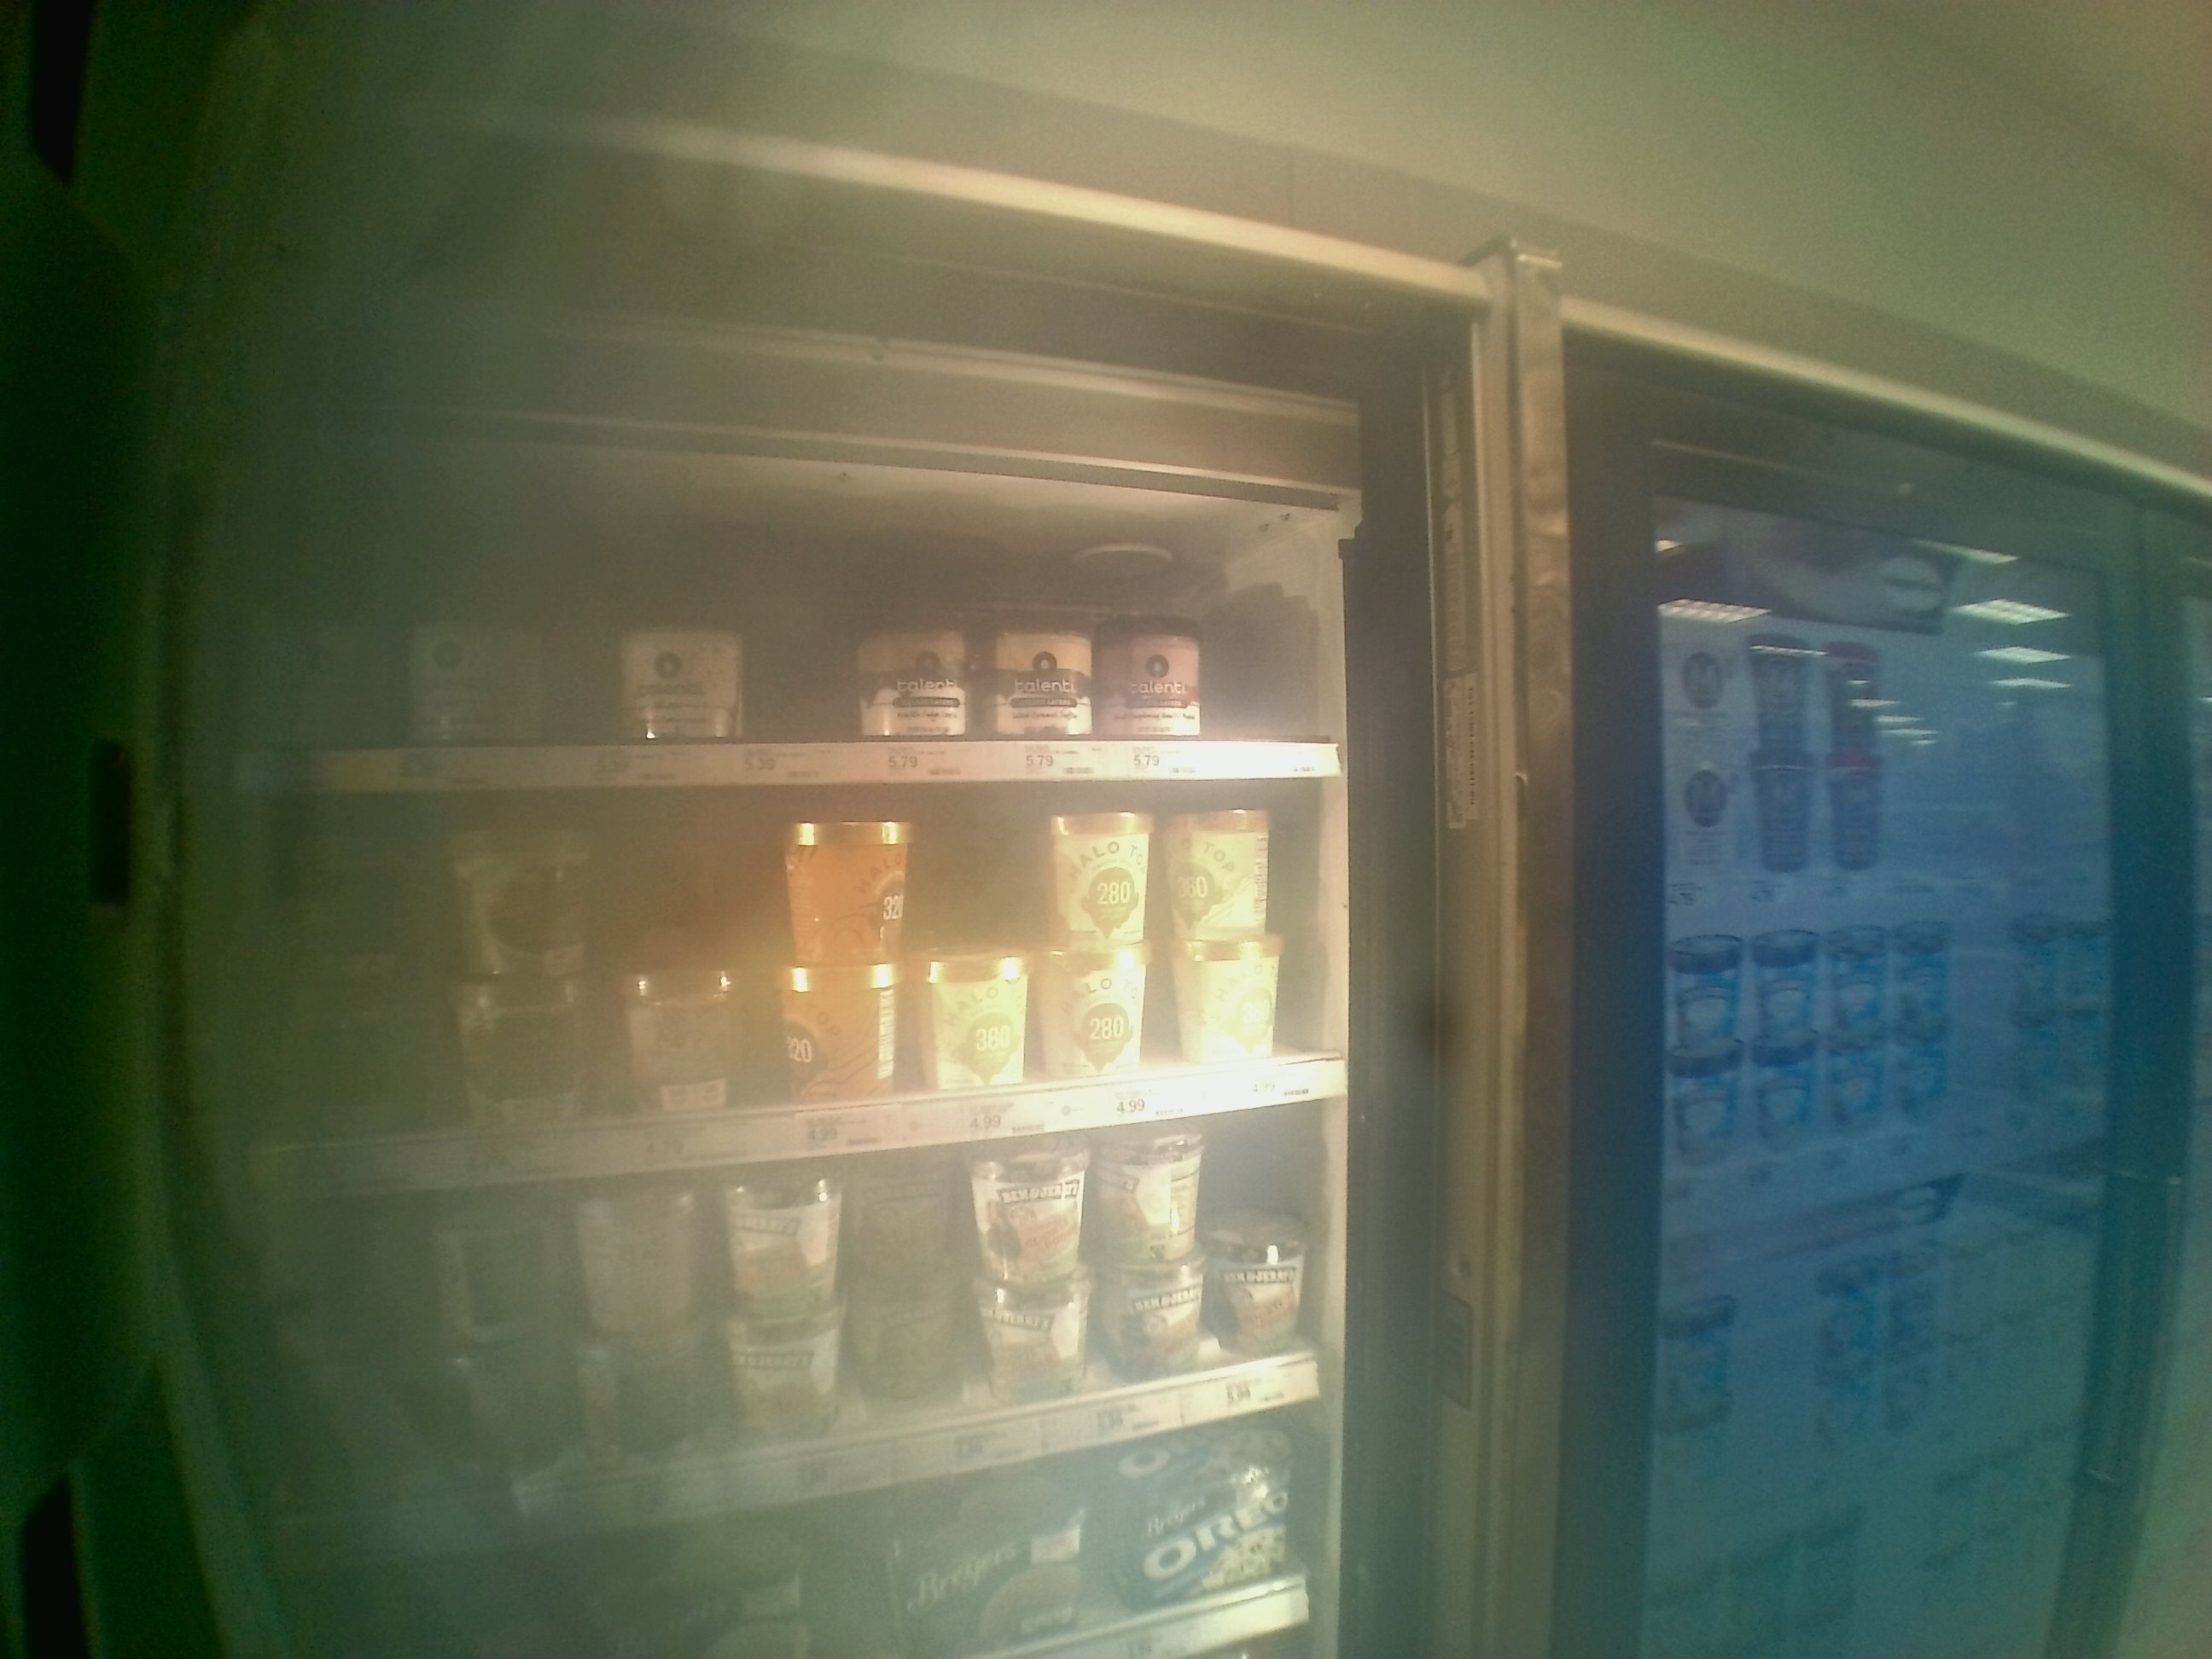shelf: (216, 779, 1355, 1206), (225, 455, 1343, 779)
